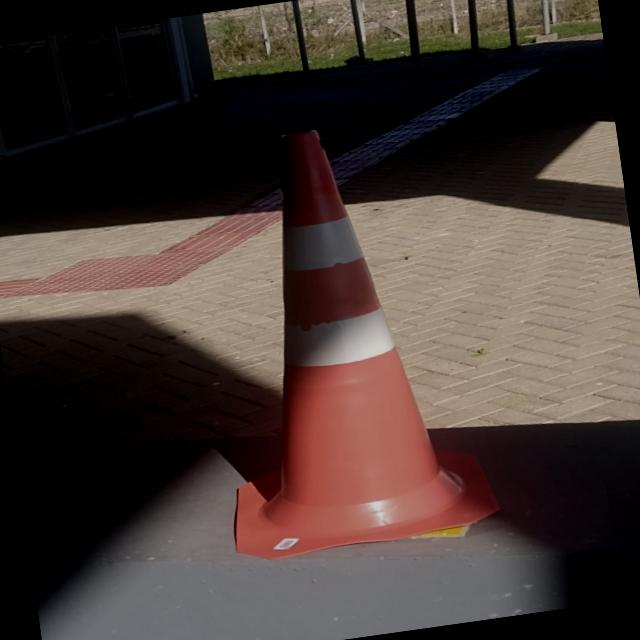cone: (158, 107, 512, 576)
